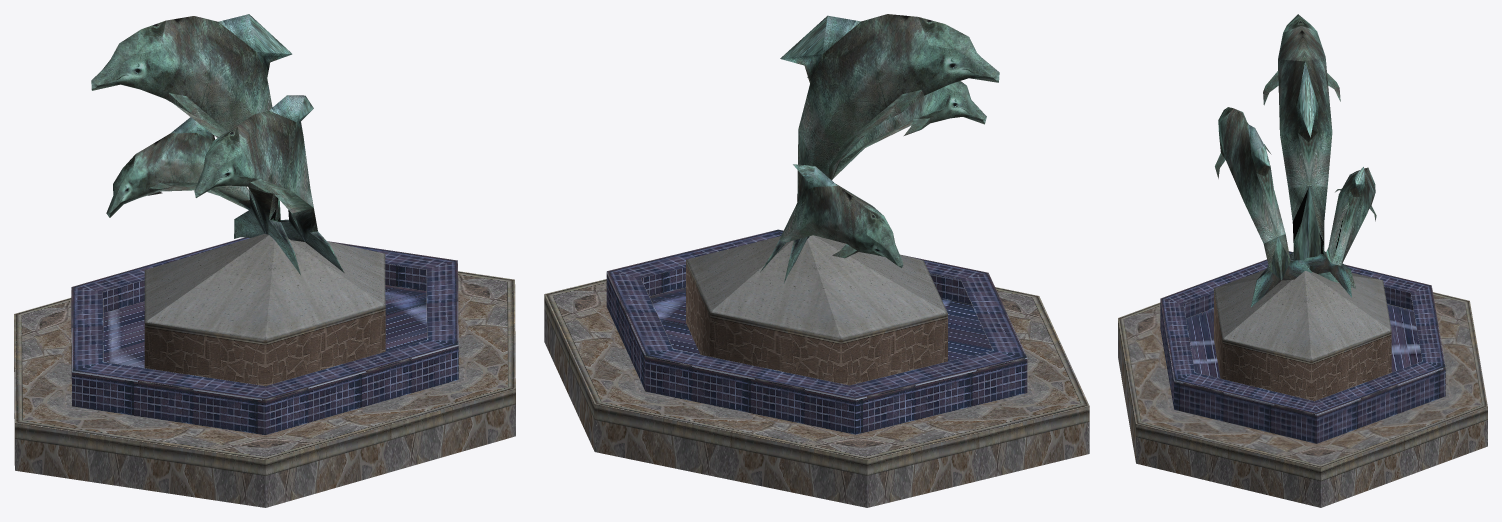
Rendered from dolphin fountain.fbx.
3 renders of one model, left to right at view 1: azimuth 30°, elevation 25°; view 2: azimuth 150°, elevation 25°; view 3: azimuth 270°, elevation 25°, orthographic. The views are drawn at different scales.
Parts seen in each view (by area): view 1: DrawCall_0727, DrawCall_0728, DrawCall_0729, DrawCall_0726, pPlane1; view 2: DrawCall_0727, DrawCall_0729, DrawCall_0728, DrawCall_0726, pPlane1; view 3: DrawCall_0727, DrawCall_0728, DrawCall_0729, DrawCall_0726, pPlane1.
Part boxes in pixels (<box>): DrawCall_0727: <box>14,271,515,507</box>; DrawCall_0728: <box>91,14,344,275</box>; DrawCall_0729: <box>71,237,458,435</box>; DrawCall_0726: <box>144,234,385,340</box>; pPlane1: <box>103,285,426,367</box>; DrawCall_0727: <box>544,260,1089,507</box>; DrawCall_0729: <box>606,229,1027,434</box>; DrawCall_0728: <box>760,14,999,282</box>; DrawCall_0726: <box>686,235,947,339</box>; pPlane1: <box>649,287,992,361</box>; DrawCall_0727: <box>1118,289,1487,507</box>; DrawCall_0728: <box>1215,14,1376,306</box>; DrawCall_0729: <box>1160,251,1445,443</box>; DrawCall_0726: <box>1214,270,1391,360</box>; pPlane1: <box>1186,304,1422,378</box>.
Bounding box in the file's own units: 69.89 × 51.73 × 51.59.
Materials: 4 (4 with a texture image).
